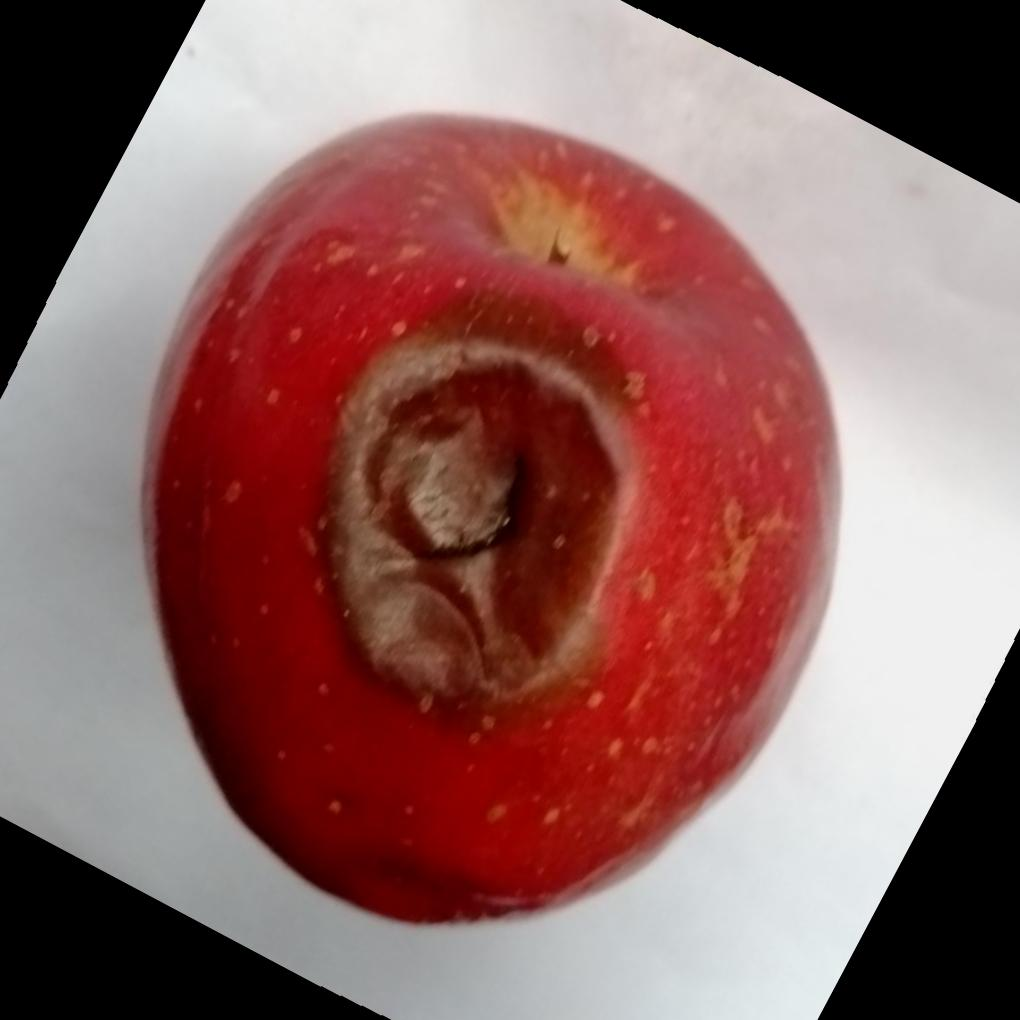FreshOrange: (140, 109, 840, 926)
